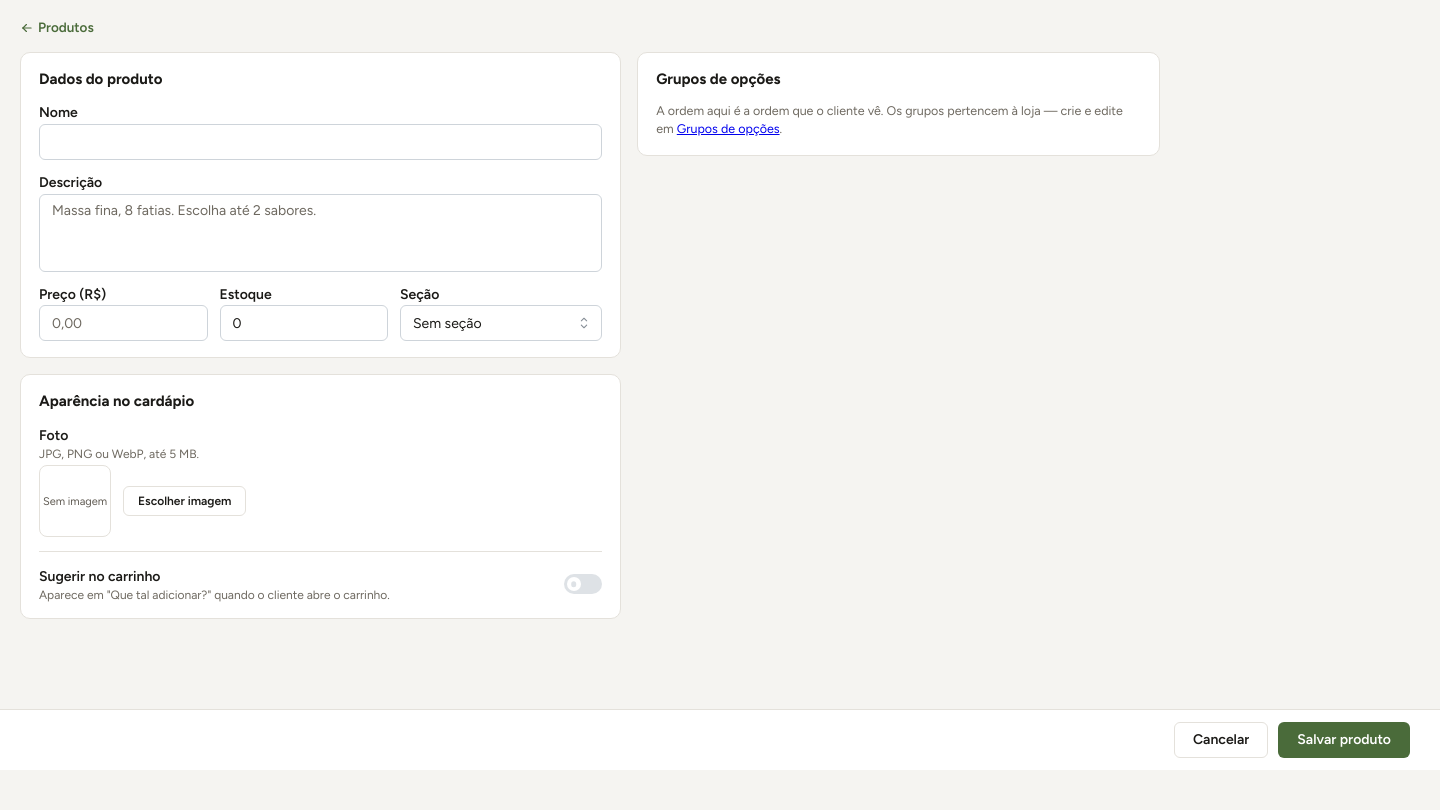
Test: ProductFormPage › preço inválido não chega à API
The width and height of the screenshot is (1440, 810).
Type "Pizza" into the field labelled "Nome" at x=321, y=142, box top-left (39, 124), bottom-right (602, 160)
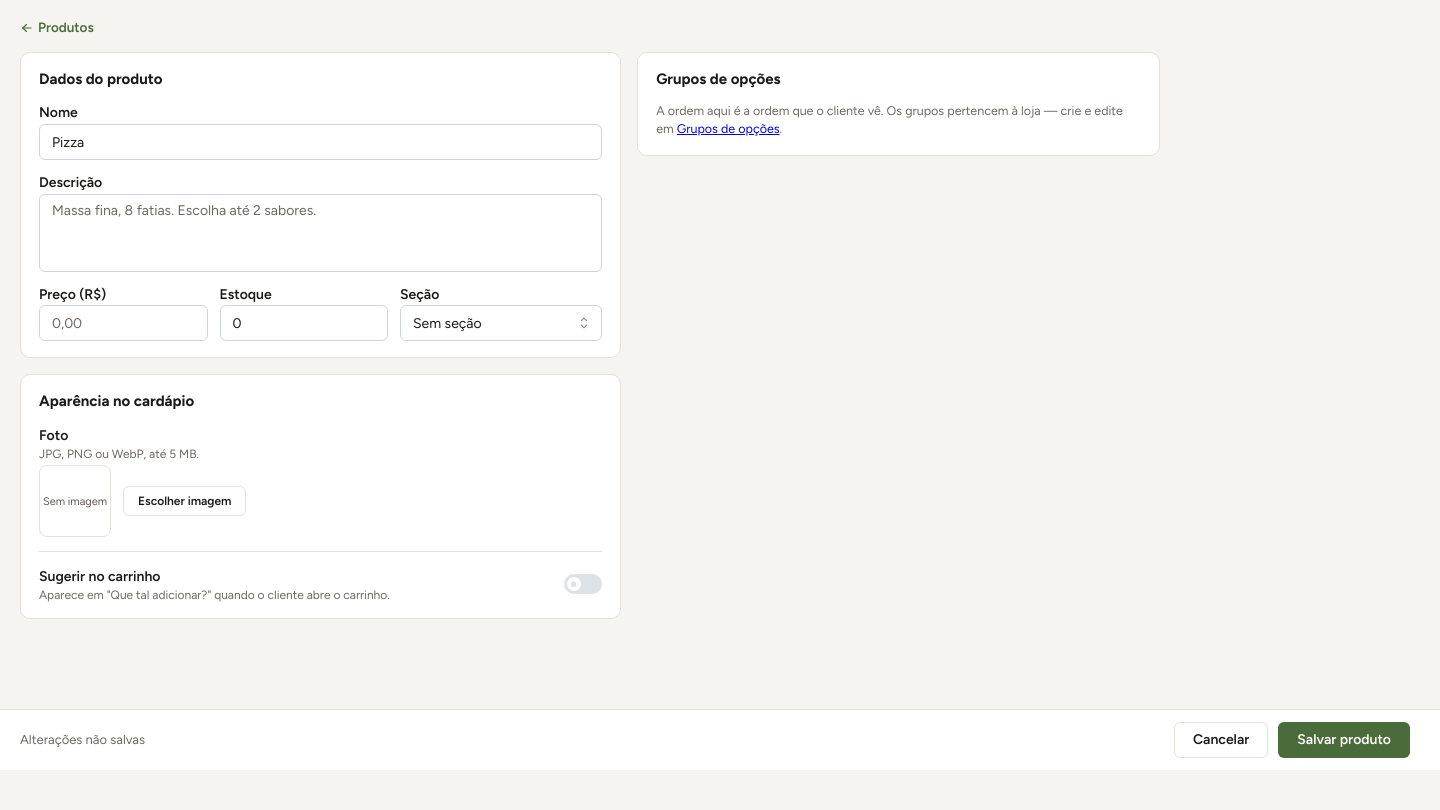
Type "45,999" into the field labelled "Preço (R$)" at x=123, y=323, box top-left (39, 305), bottom-right (208, 341)
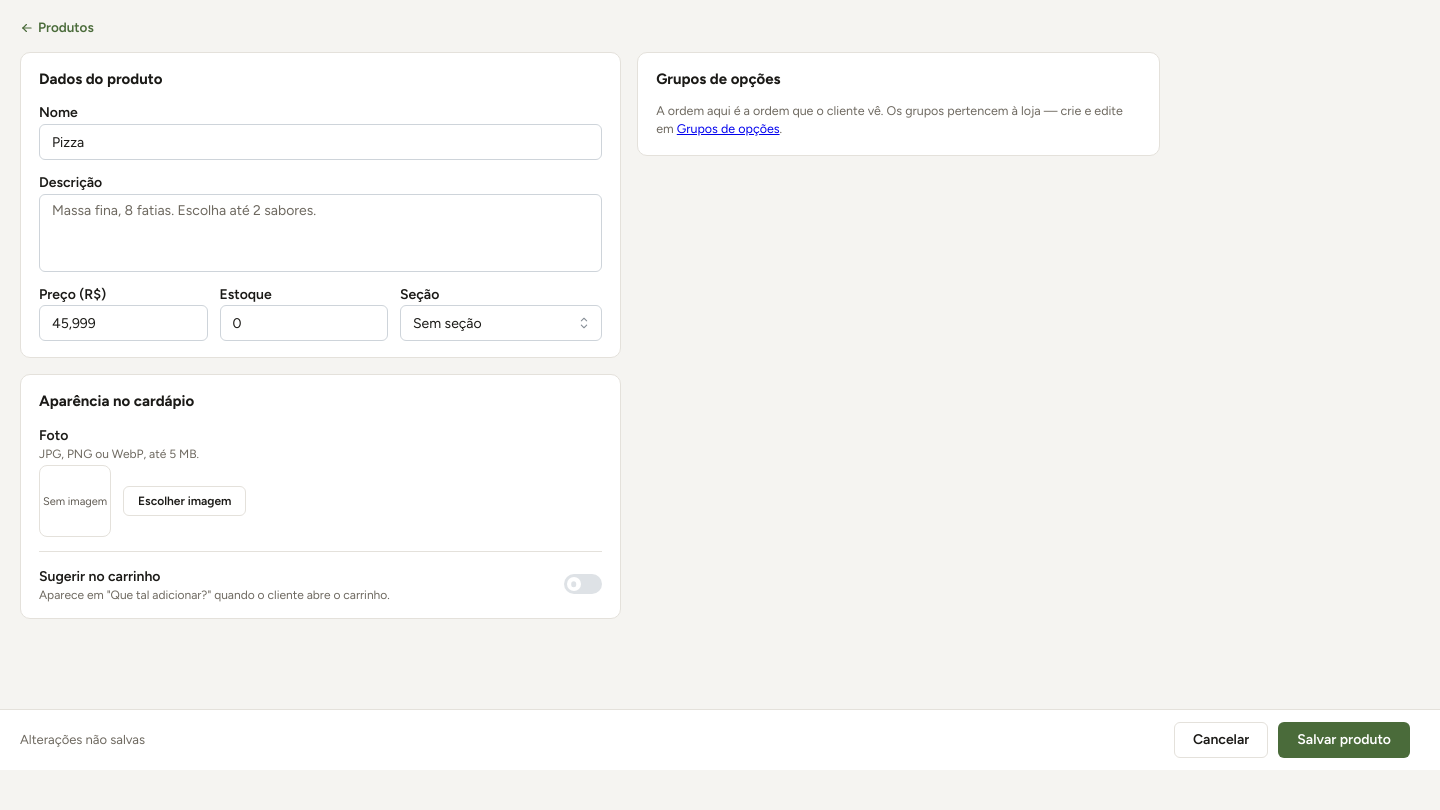
Click the button "Salvar produto" at x=1344, y=740, box top-left (1278, 722), bottom-right (1410, 758)
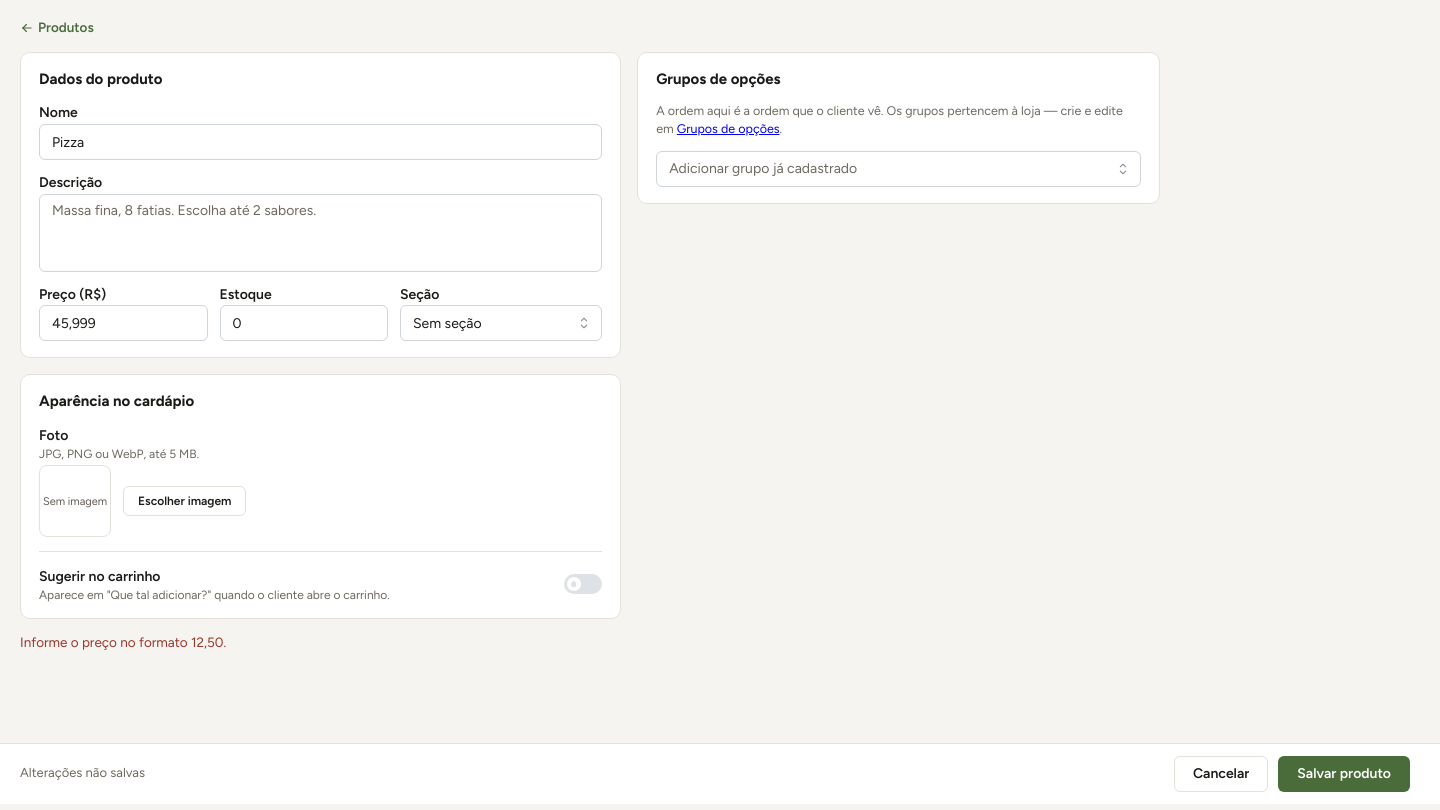
Expected: the text "Informe o preço no formato 12,50." is shown, top-left (20, 634), bottom-right (226, 650)
